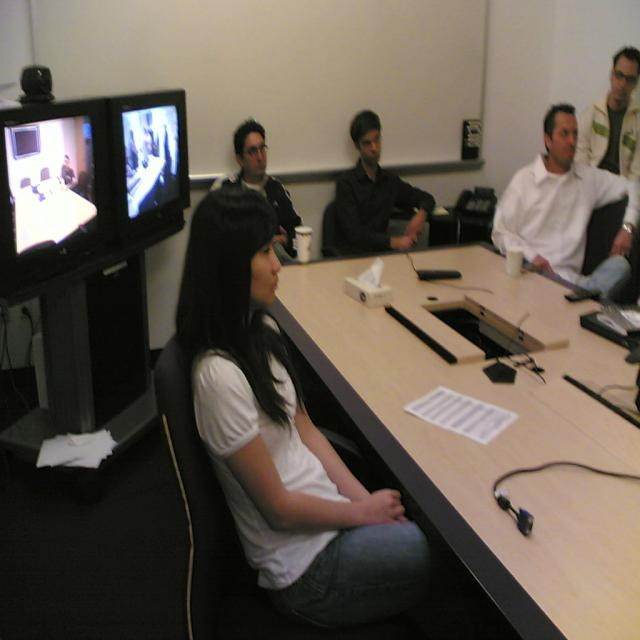chair: (154, 332, 420, 640)
desk: (268, 242, 640, 640)
person: (174, 188, 429, 634), (491, 102, 638, 290), (328, 109, 437, 258), (210, 118, 304, 254), (575, 46, 640, 176)
tv: (1, 98, 117, 290), (106, 89, 190, 253)
